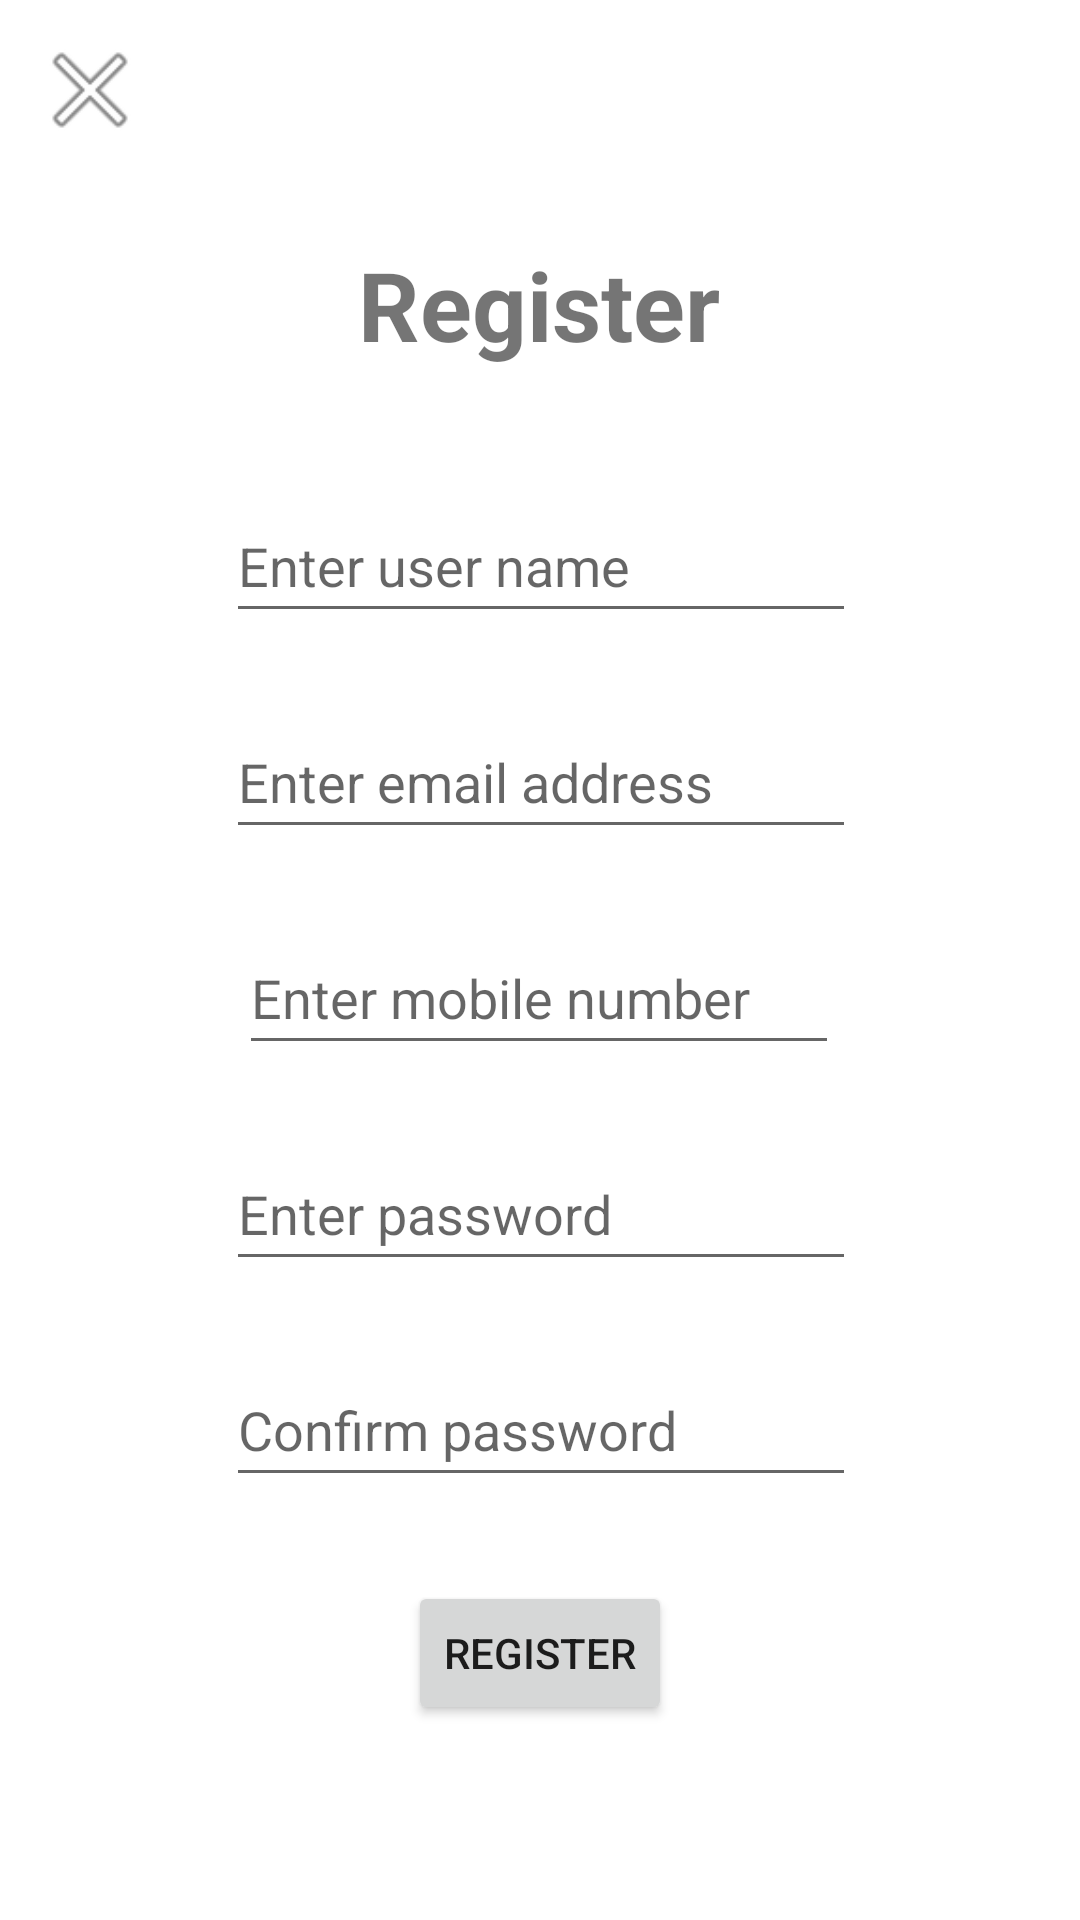

Point at icon controls on the screen. Image size 1080 x 1920, points as point (x, y).
close clear cancel: point (90, 90)
